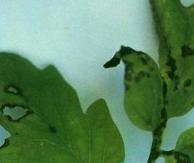Tomato leaf bacterial spot: (0, 45, 124, 163), (107, 0, 194, 136)
